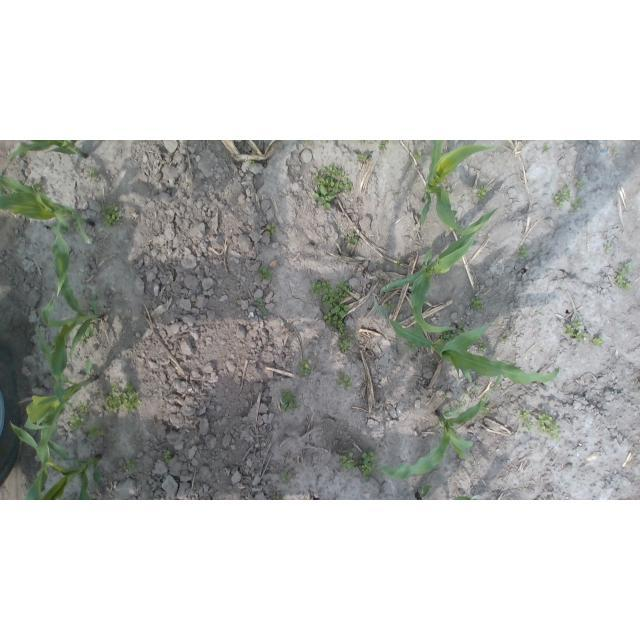Maize: (372, 295, 561, 386), (364, 374, 505, 482), (379, 205, 497, 333), (23, 320, 98, 500), (1, 176, 94, 297), (35, 246, 101, 363), (419, 141, 497, 236), (8, 421, 101, 500), (9, 141, 88, 164), (415, 484, 472, 500)
Weeds: (312, 278, 353, 334), (312, 164, 352, 211), (106, 383, 141, 414), (535, 413, 561, 442), (69, 400, 91, 431), (99, 203, 122, 229), (438, 324, 465, 344), (360, 447, 377, 477), (280, 389, 301, 412), (616, 262, 632, 291), (78, 323, 97, 346), (552, 188, 571, 209), (251, 298, 269, 317), (337, 332, 354, 352), (519, 408, 533, 430), (336, 373, 352, 392), (339, 453, 355, 472), (88, 423, 105, 439), (297, 359, 311, 377), (24, 177, 41, 191), (258, 267, 273, 282), (476, 184, 488, 201), (121, 460, 135, 473), (516, 245, 528, 259), (472, 296, 484, 310), (478, 339, 489, 354), (572, 197, 583, 211), (479, 403, 491, 415), (563, 324, 575, 336), (572, 316, 584, 328), (266, 223, 277, 236), (348, 232, 359, 244), (281, 472, 291, 484), (592, 337, 604, 347), (164, 451, 173, 464), (414, 152, 424, 163), (576, 333, 588, 342), (357, 153, 368, 161), (86, 169, 97, 177), (383, 303, 395, 310), (576, 180, 585, 189), (408, 343, 417, 352), (380, 140, 388, 149), (502, 332, 510, 341), (543, 144, 551, 152), (247, 159, 255, 167), (436, 420, 444, 428), (395, 260, 403, 268), (444, 187, 451, 196), (472, 387, 481, 393), (457, 404, 463, 413), (274, 495, 284, 500), (605, 245, 612, 252), (563, 384, 569, 390), (96, 293, 101, 300), (612, 147, 617, 154), (464, 389, 470, 394), (437, 387, 444, 391), (302, 141, 308, 144)
